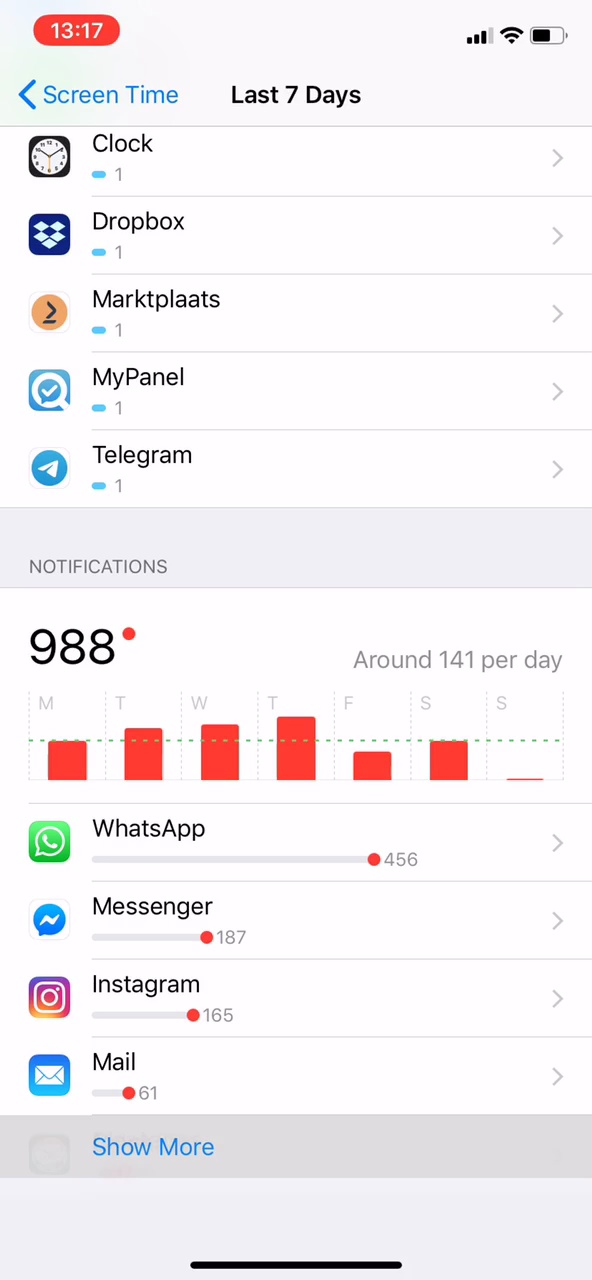not_app: (25, 808, 465, 889), (28, 963, 307, 1041), (29, 891, 298, 960), (23, 1044, 222, 1108)
not_over: (15, 538, 209, 685)
pick_app: (32, 271, 264, 350), (31, 352, 261, 430), (29, 433, 262, 503), (29, 208, 242, 271), (28, 132, 200, 205)
week: (223, 75, 382, 114)
